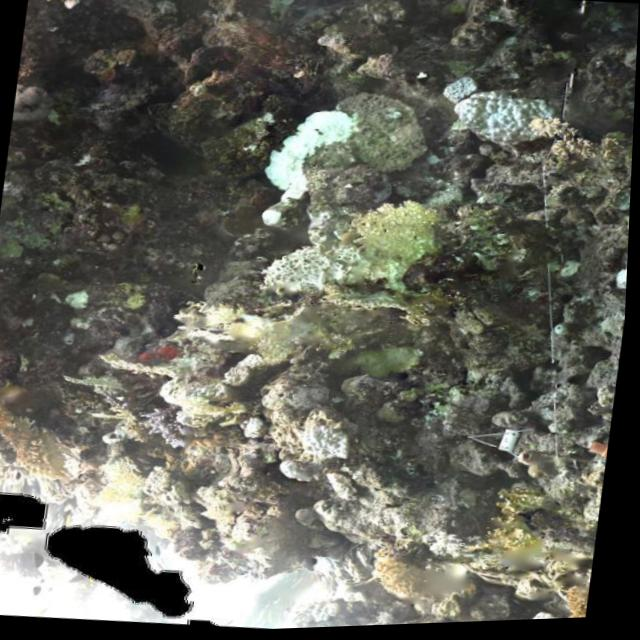Bleached Coral: (423, 69, 562, 158)
